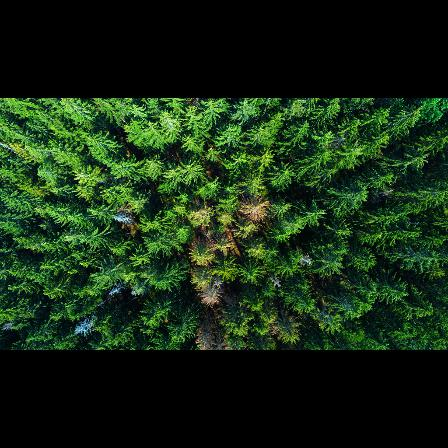Dead: (72, 314, 98, 337), (200, 284, 222, 308), (111, 209, 137, 227), (297, 250, 315, 266), (108, 282, 125, 296), (269, 274, 283, 288)
